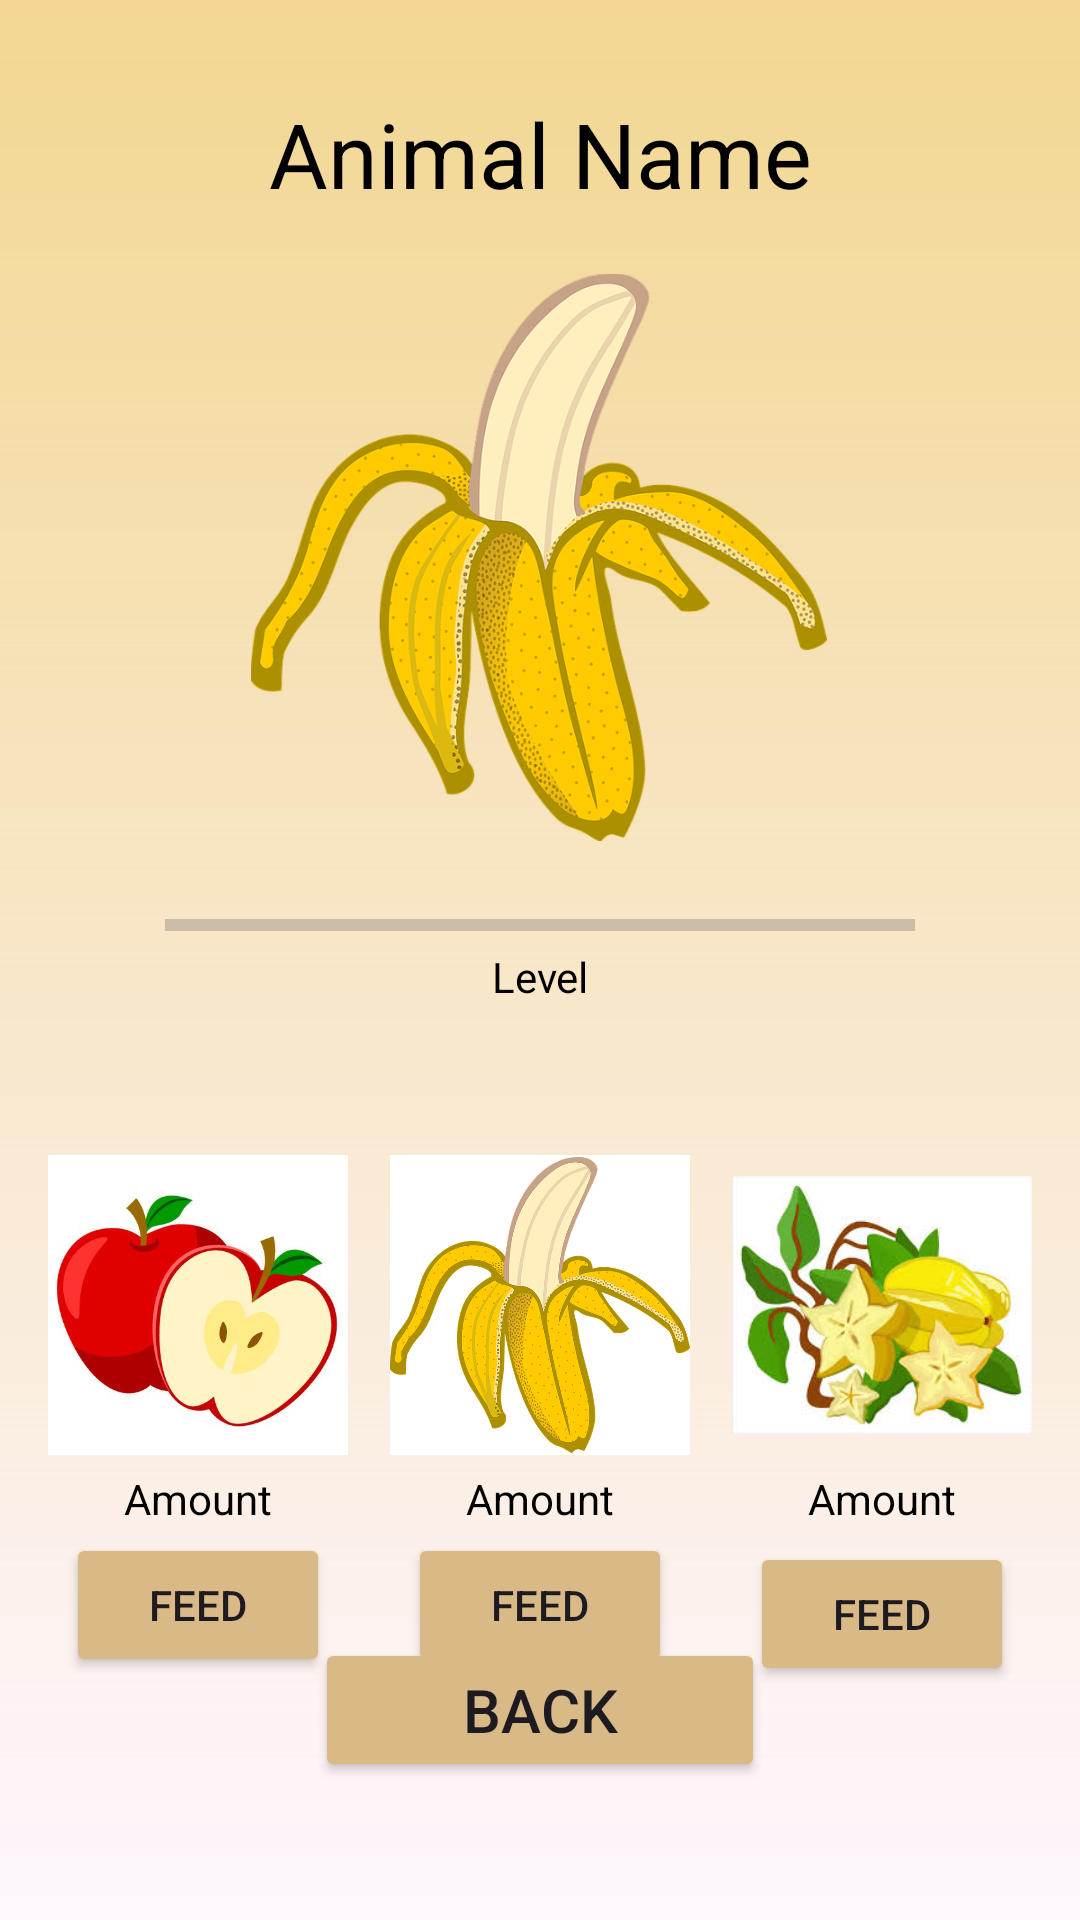

Where icons sit on this 1080 x 1920 app screen, as (left=x1, top=y1, right=x2, bottom=y2):
apple ar: (left=48, top=1155, right=348, bottom=1455)
starfruit ar: (left=732, top=1176, right=1032, bottom=1434)
